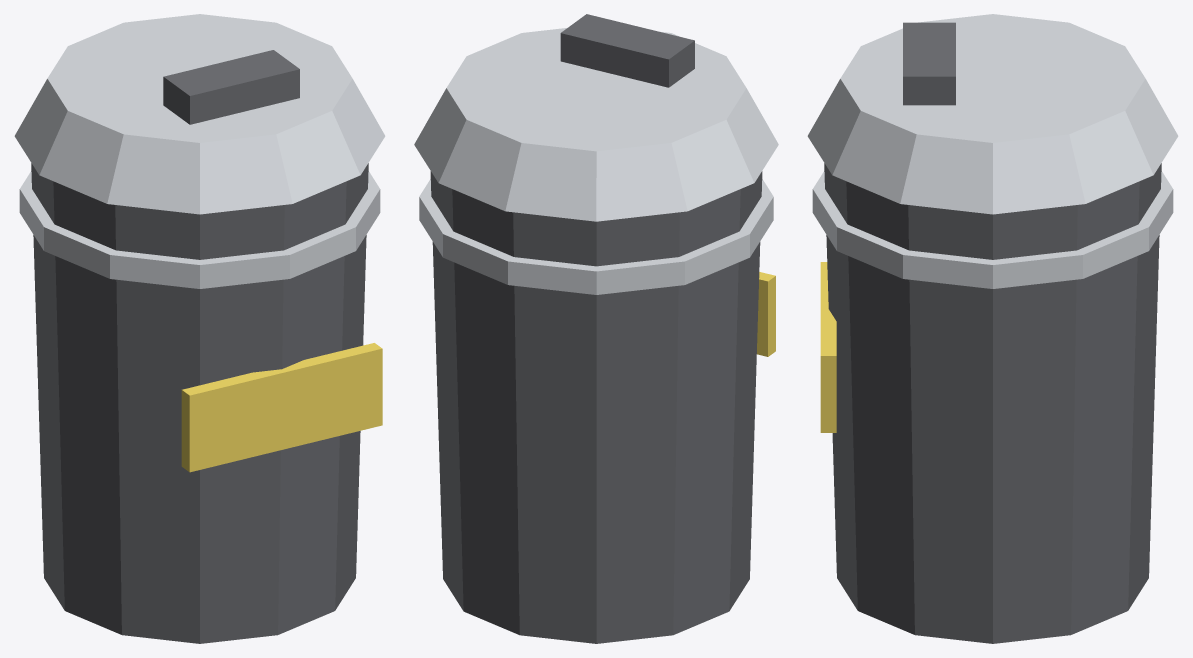
Rendered from street-food-market-and-food-trucks-market-bin-f7ba837e__34304.glb.
3 views of the same model, side by side, from view 1: azimuth 30°, elevation 25°; view 2: azimuth 150°, elevation 25°; view 3: azimuth 270°, elevation 25° (orthographic).
Visible parts, largest first — view 1: market-bin-charcoal, lid/steel, market-bin-canary, market-bin-steel, lid/charcoal; view 2: market-bin-charcoal, lid/steel, market-bin-steel, lid/charcoal, market-bin-canary; view 3: market-bin-charcoal, lid/steel, market-bin-steel, lid/charcoal, market-bin-canary.
Part boxes in pixels (x1,y1,x2,y2): market-bin-charcoal: [31, 163, 368, 643]; lid/steel: [14, 14, 385, 214]; market-bin-canary: [181, 343, 382, 472]; market-bin-steel: [19, 171, 380, 288]; lid/charcoal: [163, 50, 299, 124]; market-bin-charcoal: [430, 171, 762, 643]; lid/steel: [414, 28, 778, 221]; market-bin-steel: [419, 179, 773, 294]; lid/charcoal: [560, 14, 694, 87]; market-bin-canary: [757, 272, 775, 356]; market-bin-charcoal: [824, 163, 1161, 643]; lid/steel: [807, 14, 1178, 214]; market-bin-steel: [812, 171, 1173, 288]; lid/charcoal: [903, 22, 955, 105]; market-bin-canary: [820, 262, 836, 432].
Size of the model in its own units: 0.7 by 1.1 by 0.7.
